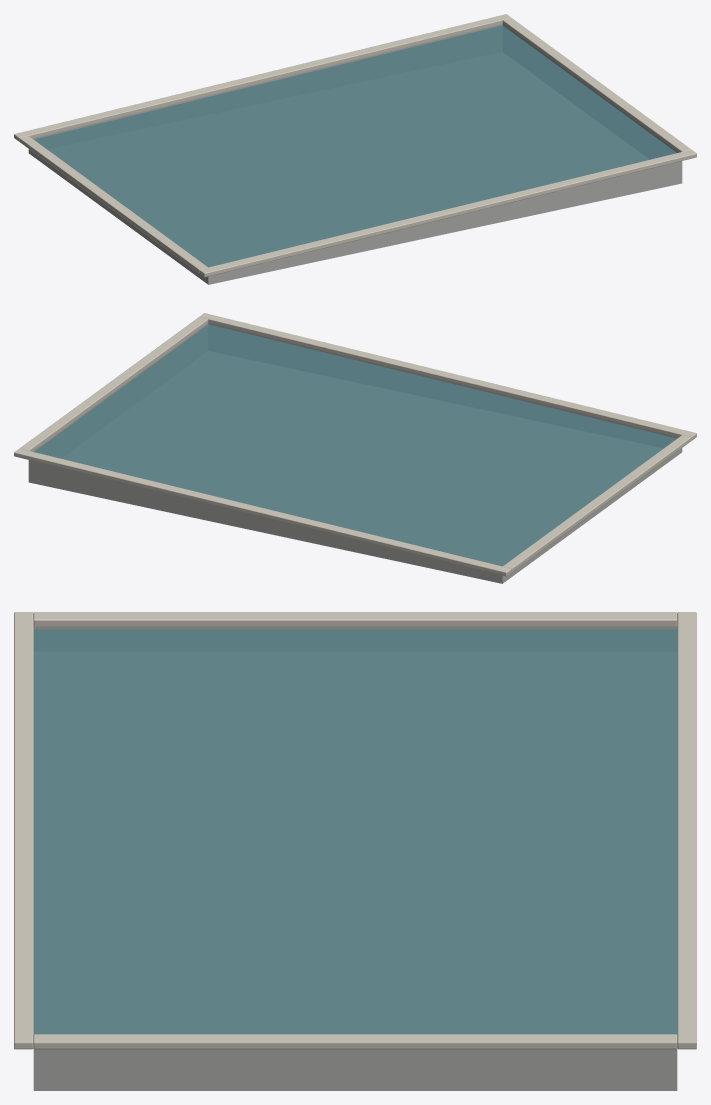
File: palestra-piscina.glb
3 views of the same model, one above another, from view 1: azimuth 30°, elevation 25°; view 2: azimuth 150°, elevation 25°; view 3: azimuth 270°, elevation 25° (orthographic). The views are drawn at different scales.
Visible parts, largest first — view 1: acqua, bordo, vasca; view 2: acqua, bordo, vasca; view 3: acqua, bordo, vasca.
Boxes of the visible parts, x1,y1,x2,y2 form: acqua: (34, 25, 676, 267); bordo: (14, 14, 696, 277); vasca: (28, 23, 682, 284); acqua: (34, 324, 676, 566); bordo: (14, 313, 696, 576); vasca: (28, 322, 682, 583); acqua: (33, 629, 677, 1034); bordo: (14, 612, 696, 1049); vasca: (33, 626, 677, 1090).
Size of the model in its own units: 9.1 by 0.5625 by 6.1.
